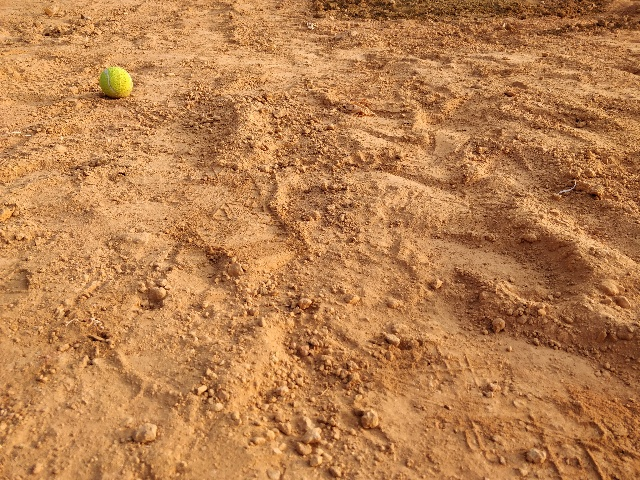ball: (87, 65, 140, 105)
